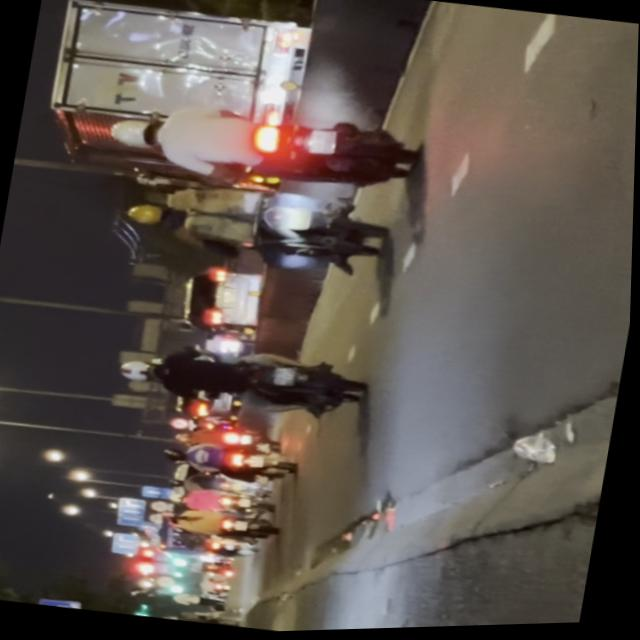helmet: (107, 111, 162, 150)
licenseplate: (102, 85, 423, 209)
nohelmet: (306, 128, 338, 157)
